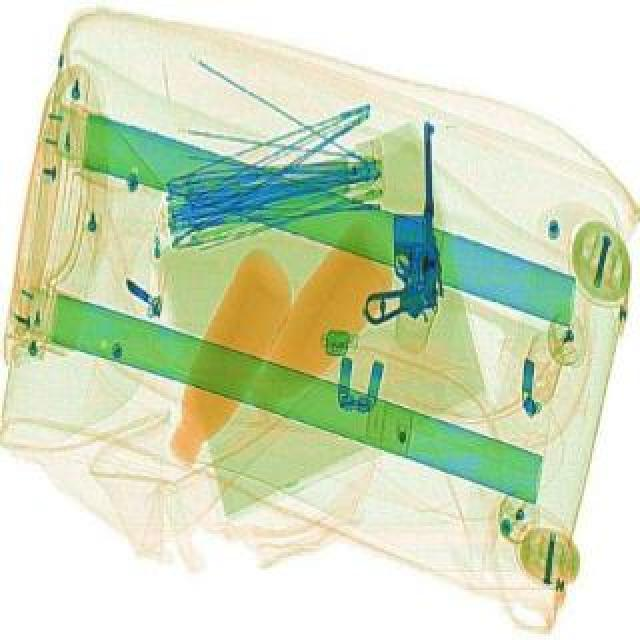gun: (356, 120, 444, 326)
